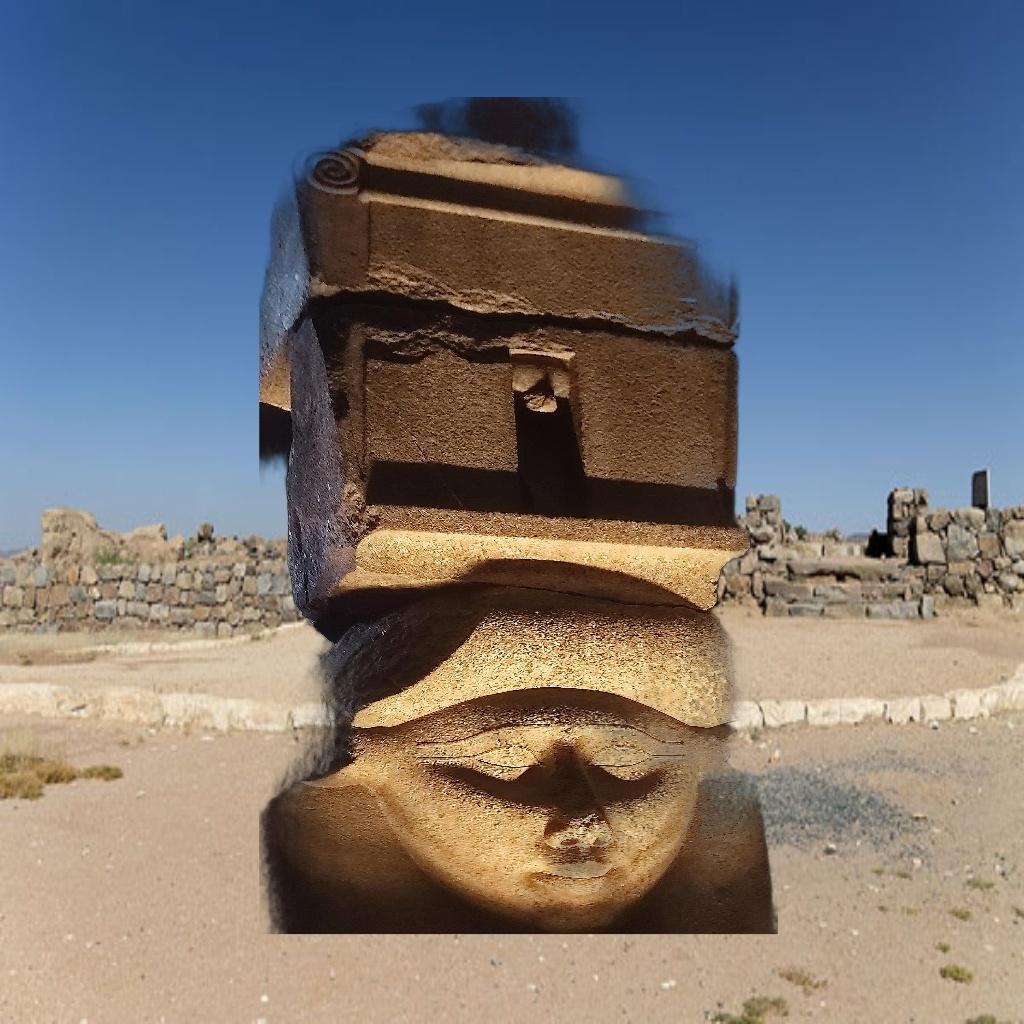Hathor Capital: (260, 98, 778, 934)
